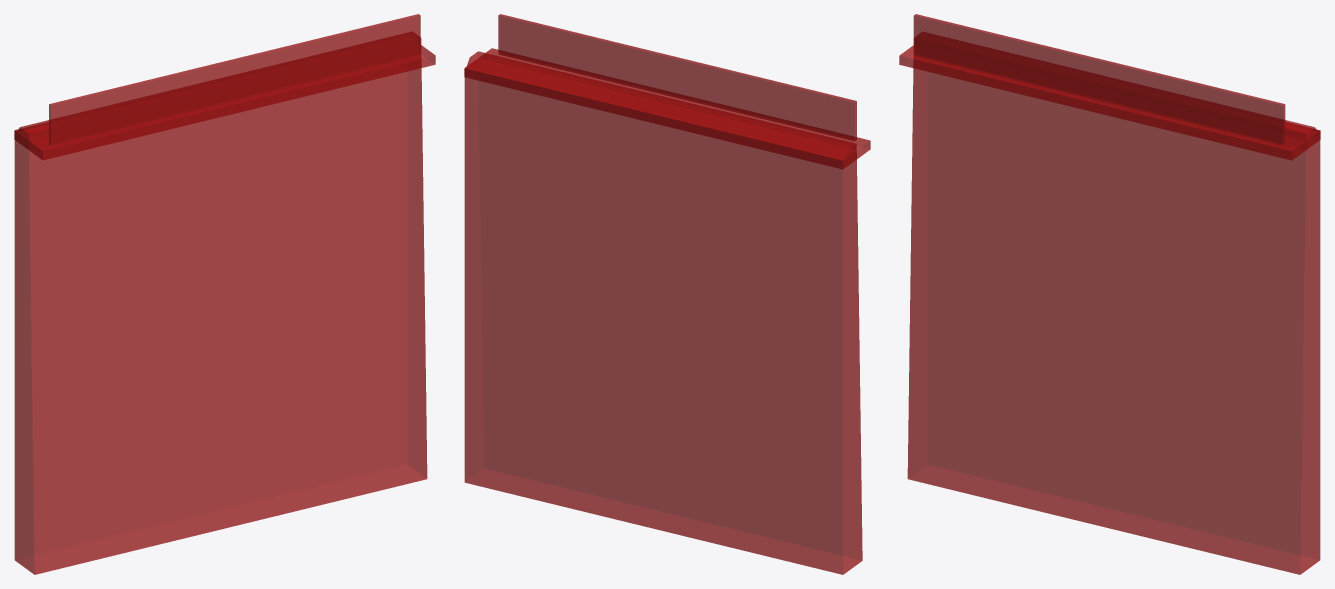
The model's file is SM_Env_Port_Drydock_Large_Flat_01_Collision.fbx.
3 renders of one model, left to right at view 1: azimuth 30°, elevation 25°; view 2: azimuth 150°, elevation 25°; view 3: azimuth 330°, elevation 25°, orthographic. The views are drawn at different scales.
Parts seen in each view (by area): view 1: SM_Env_Port_Drydock_Large_Flat_01_Collision; view 2: SM_Env_Port_Drydock_Large_Flat_01_Collision; view 3: SM_Env_Port_Drydock_Large_Flat_01_Collision.
Boxes of the visible parts, left/top/right/bottom form: SM_Env_Port_Drydock_Large_Flat_01_Collision: left=14, top=14, right=435, bottom=574; SM_Env_Port_Drydock_Large_Flat_01_Collision: left=464, top=14, right=870, bottom=574; SM_Env_Port_Drydock_Large_Flat_01_Collision: left=899, top=14, right=1320, bottom=574.
Bounding box in the file's own units: 1000 × 1144 × 126.
